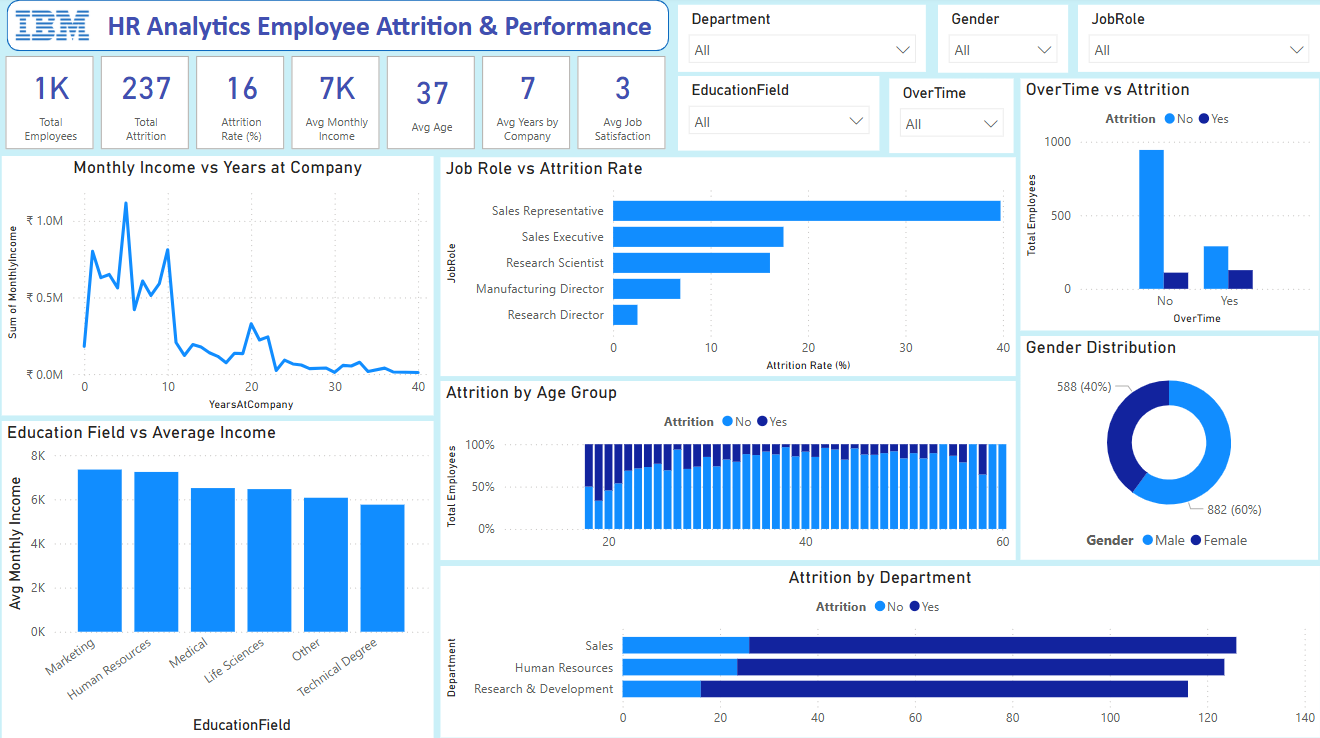

What the dashboard file says about the page in this screenshot:
{"tool":"powerbi","page":{"name":"Page 1","canvas":[1280,720],"ordinal":0},"visuals":[{"type":"shape","box":[8.5,3.6,639.5,49.8],"z":0},{"type":"textbox","box":[96,7.3,543.5,43.8],"z":1000},{"type":"image","box":[8.5,7.3,88.8,42.6],"z":2000},{"type":"cardVisual","fields":{"Data":["HR-Employee-Attrition.Total Employees","HR-Employee-Attrition.Total Attrition","HR-Employee-Attrition.Attrition Rate (%)","HR-Employee-Attrition.Avg Monthly Income","HR-Employee-Attrition.Avg Age","HR-Employee-Attrition.Avg Years by Company","HR-Employee-Attrition.Avg Job Satisfaction"]},"box":[3,53.5,650,100.9],"z":3000},{"type":"barChart","title":"Attrition by Department","fields":{"Category":["HR-Employee-Attrition.Department"],"Y":["HR-Employee-Attrition.Attrition Rate (%)"],"Series":["HR-Employee-Attrition.Attrition"]},"box":[426.7,549.5,848.6,165.4],"z":4000},{"type":"hundredPercentStackedColumnChart","title":"Attrition by Age Group","fields":{"Category":["HR-Employee-Attrition.Age"],"Y":["HR-Employee-Attrition.Total Employees"],"Series":["HR-Employee-Attrition.Attrition"]},"box":[427,372,555,173],"z":5000},{"type":"lineChart","title":"Monthly Income vs Years at Company","fields":{"Y":["Sum(HR-Employee-Attrition.MonthlyIncome)"],"Category":["HR-Employee-Attrition.YearsAtCompany"]},"box":[3.6,154.4,417,250.5],"z":6000},{"type":"barChart","title":"Job Role vs Attrition Rate","fields":{"Category":["HR-Employee-Attrition.JobRole"],"Y":["HR-Employee-Attrition.Attrition Rate (%)"]},"box":[427,155.6,555,211.6],"z":7000},{"type":"clusteredColumnChart","title":"Education Field vs Average Income","fields":{"Category":["HR-Employee-Attrition.EducationField"],"Y":["HR-Employee-Attrition.Avg Monthly Income"]},"box":[4,409.7,417,306.4],"z":8000},{"type":"donutChart","title":"Gender Distribution","fields":{"Y":["HR-Employee-Attrition.Total Employees"],"Category":["HR-Employee-Attrition.Gender"]},"box":[988.5,327.1,286.9,216.4],"z":9000},{"type":"clusteredColumnChart","title":"OverTime vs Attrition","fields":{"Category":["HR-Employee-Attrition.OverTime"],"Series":["HR-Employee-Attrition.Attrition"],"Y":["HR-Employee-Attrition.Total Employees"]},"box":[987,79,288,243],"z":10000},{"type":"slicer","fields":{"Values":["HR-Employee-Attrition.Department"]},"box":[656.5,8.5,239.5,64.4],"z":11000},{"type":"slicer","fields":{"Values":["HR-Employee-Attrition.Gender"]},"box":[907,8.5,125.2,65.7],"z":12000},{"type":"slicer","fields":{"Values":["HR-Employee-Attrition.JobRole"]},"box":[1041.9,8.5,233.4,64.4],"z":13000},{"type":"slicer","fields":{"Values":["HR-Employee-Attrition.EducationField"]},"box":[656.5,77.8,194.5,71.7],"z":14000},{"type":"slicer","fields":{"Values":["HR-Employee-Attrition.OverTime"]},"box":[860.8,79,120.4,71.7],"z":15000}]}

Visuals, with their boxes in screenshot pixels (x1, y1, x2, y2), scaled from the page's 1280x720 canvas onto the 1320x738 screenshot:
shape: region(9, 4, 668, 55)
textbox: region(99, 7, 659, 52)
image: region(9, 7, 100, 51)
cardVisual - HR-Employee-Attrition.Total Employees x HR-Employee-Attrition.Total Attrition: region(3, 55, 673, 158)
"Attrition by Department" barChart: region(440, 563, 1315, 733)
"Attrition by Age Group" hundredPercentStackedColumnChart: region(440, 381, 1013, 559)
"Monthly Income vs Years at Company" lineChart: region(4, 158, 434, 415)
"Job Role vs Attrition Rate" barChart: region(440, 159, 1013, 376)
"Education Field vs Average Income" clusteredColumnChart: region(4, 420, 434, 734)
"Gender Distribution" donutChart: region(1019, 335, 1315, 557)
"OverTime vs Attrition" clusteredColumnChart: region(1018, 81, 1315, 330)
slicer - HR-Employee-Attrition.Department: region(677, 9, 924, 75)
slicer - HR-Employee-Attrition.Gender: region(935, 9, 1064, 76)
slicer - HR-Employee-Attrition.JobRole: region(1074, 9, 1315, 75)
slicer - HR-Employee-Attrition.EducationField: region(677, 80, 878, 153)
slicer - HR-Employee-Attrition.OverTime: region(888, 81, 1012, 154)
